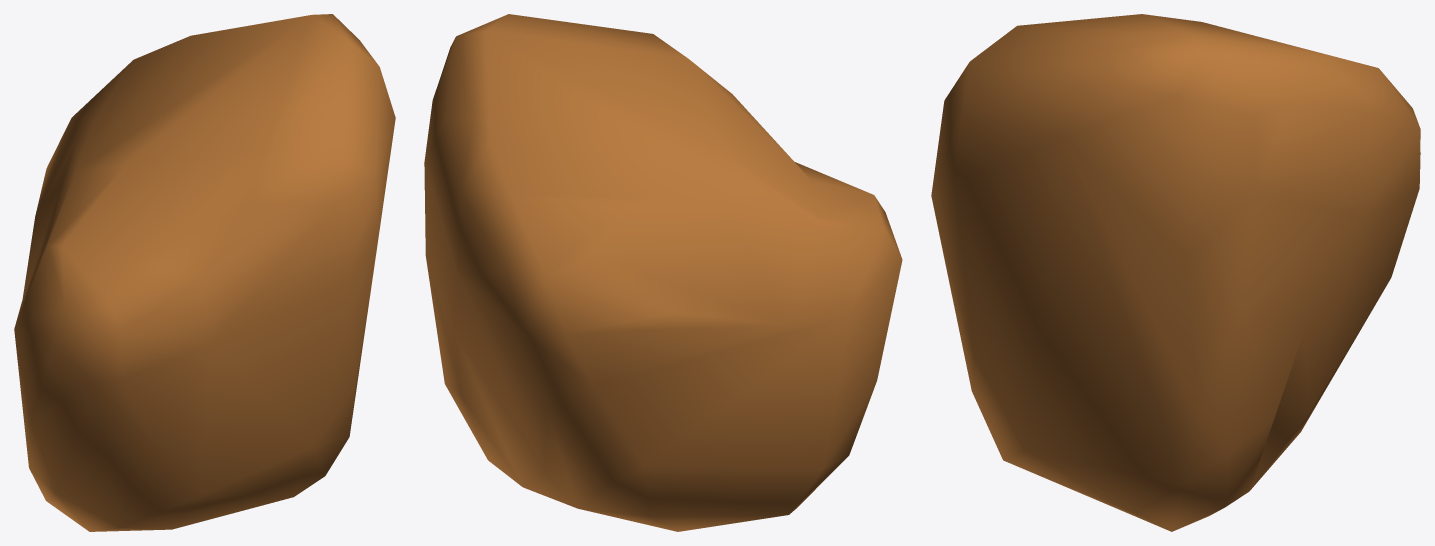
Rendered from SoftRock_19.fbx.
3 renders of one model, left to right at view 1: azimuth 30°, elevation 25°; view 2: azimuth 150°, elevation 25°; view 3: azimuth 270°, elevation 25°, orthographic. The views are drawn at different scales.
Parts seen in each view (by area): view 1: SoftRock_19; view 2: SoftRock_19; view 3: SoftRock_19.
Part boxes in pixels (bbox=[...]): SoftRock_19: bbox=[14, 14, 395, 531]; SoftRock_19: bbox=[424, 14, 902, 531]; SoftRock_19: bbox=[931, 14, 1420, 531].
Bounding box in the file's own units: 103 × 111 × 95.34.
